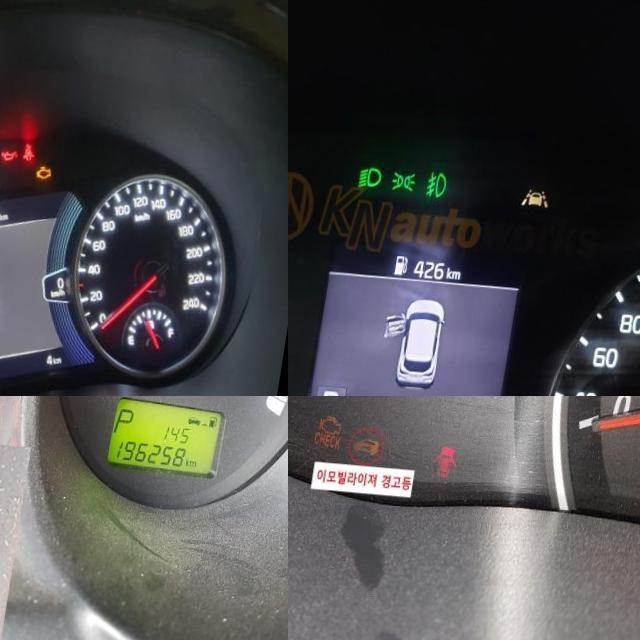Doors: (443, 437, 471, 471)
FrontFogLight: (433, 163, 457, 193)
LaneCenteringOff: (529, 178, 558, 200)
Low beam: (366, 160, 392, 184)
SideLamp: (399, 164, 425, 187)
